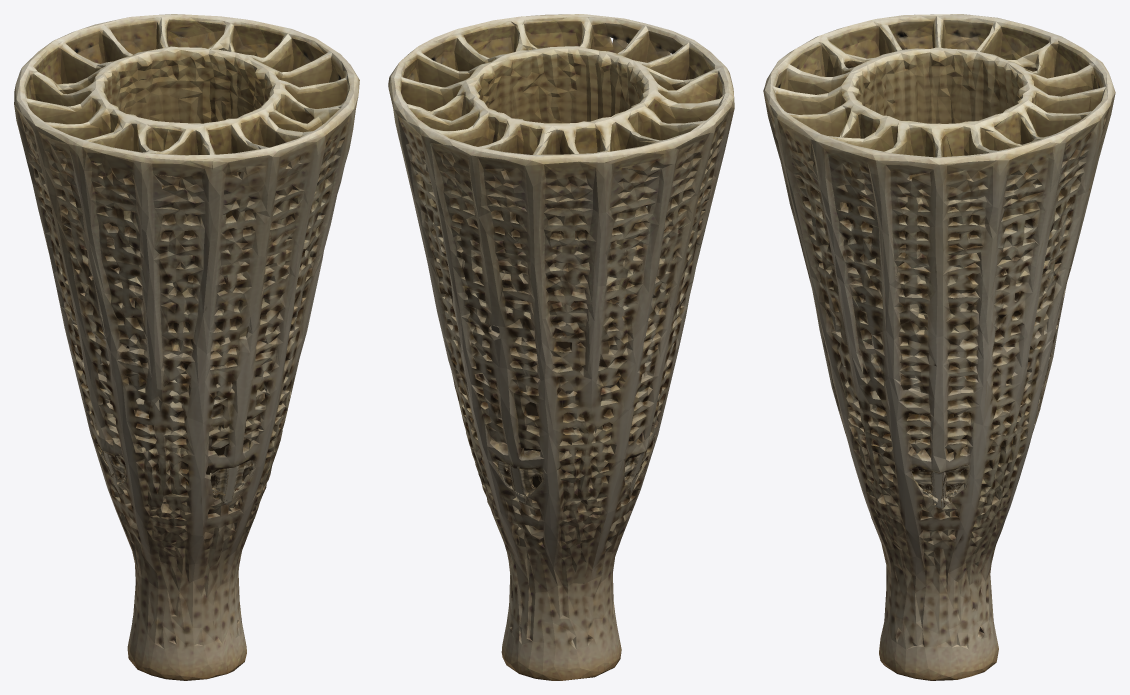
3 renders of one model, left to right at view 1: azimuth 30°, elevation 25°; view 2: azimuth 150°, elevation 25°; view 3: azimuth 270°, elevation 25°, orthographic.
Parts seen in each view (by area): view 1: world, pore_panel_-90, pore_panel_-180; view 2: world, pore_panel_90, pore_panel_-180; view 3: world, pore_panel_0.
Boxes of the visible parts, x1,y1,x2,y2 form: world: (14, 14, 359, 680); pore_panel_-90: (209, 459, 256, 504); pore_panel_-180: (96, 441, 126, 493); world: (388, 14, 734, 680); pore_panel_90: (492, 458, 544, 503); pore_panel_-180: (624, 435, 655, 492); world: (763, 14, 1115, 680); pore_panel_0: (910, 464, 970, 508).
Size of the model in its own units: 0.0668 by 0.12 by 0.067.
1 material, 1 textured.
